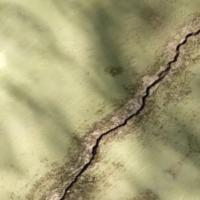crack: (46, 22, 199, 199)
